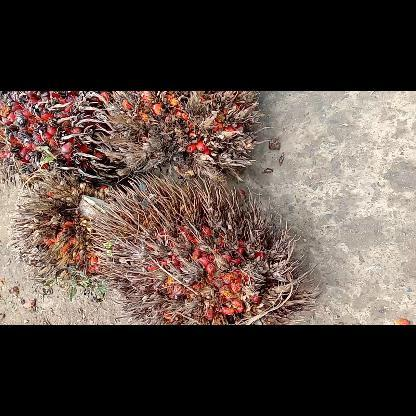Terlalu masak: (74, 174, 320, 324), (100, 91, 268, 187), (14, 166, 126, 304), (0, 90, 120, 194)
